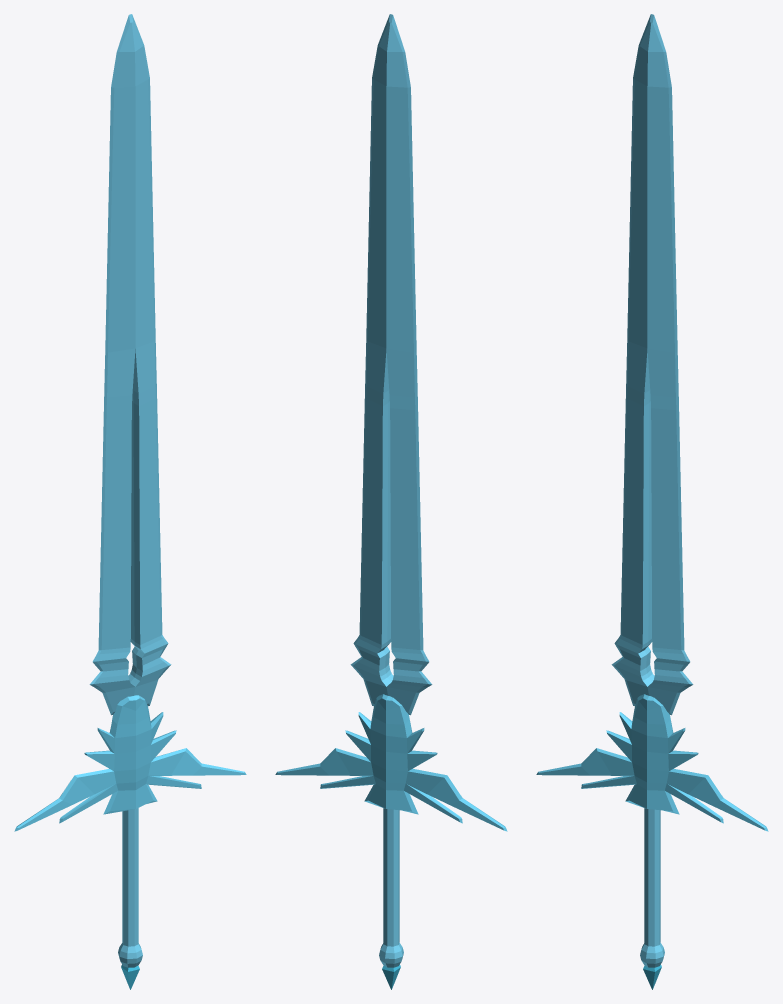
Rendered from free_two_handed_sword_1.fbx.
3 views of the same model, side by side, from view 1: azimuth 30°, elevation 25°; view 2: azimuth 150°, elevation 25°; view 3: azimuth 330°, elevation 25° (orthographic).
Parts seen in each view (by area): view 1: free_two_handed_sword_1; view 2: free_two_handed_sword_1; view 3: free_two_handed_sword_1.
Part boxes in pixels (bbox=[...]): free_two_handed_sword_1: bbox=[14, 14, 246, 989]; free_two_handed_sword_1: bbox=[275, 14, 507, 989]; free_two_handed_sword_1: bbox=[536, 14, 768, 989].
Size of the model in its own units: 0.4549 by 1.83 by 0.044.
1 material, 1 textured.
